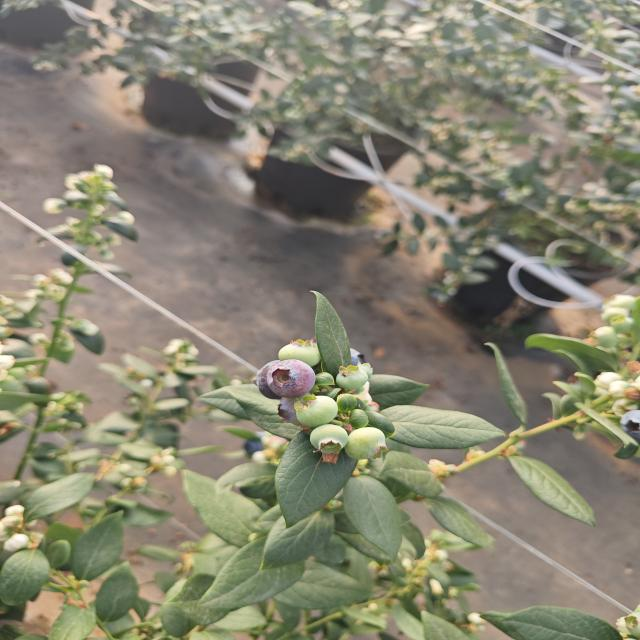ripe: (248, 357, 323, 402), (330, 341, 372, 376)
